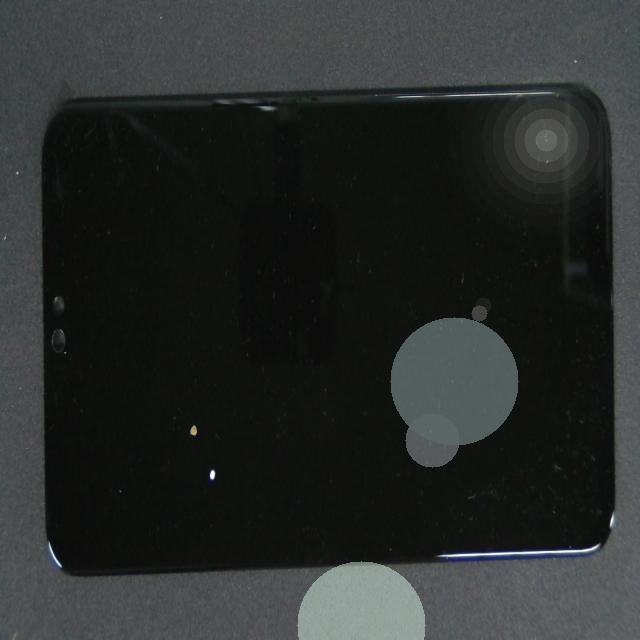stain: (87, 232, 319, 640), (78, 233, 288, 640)
